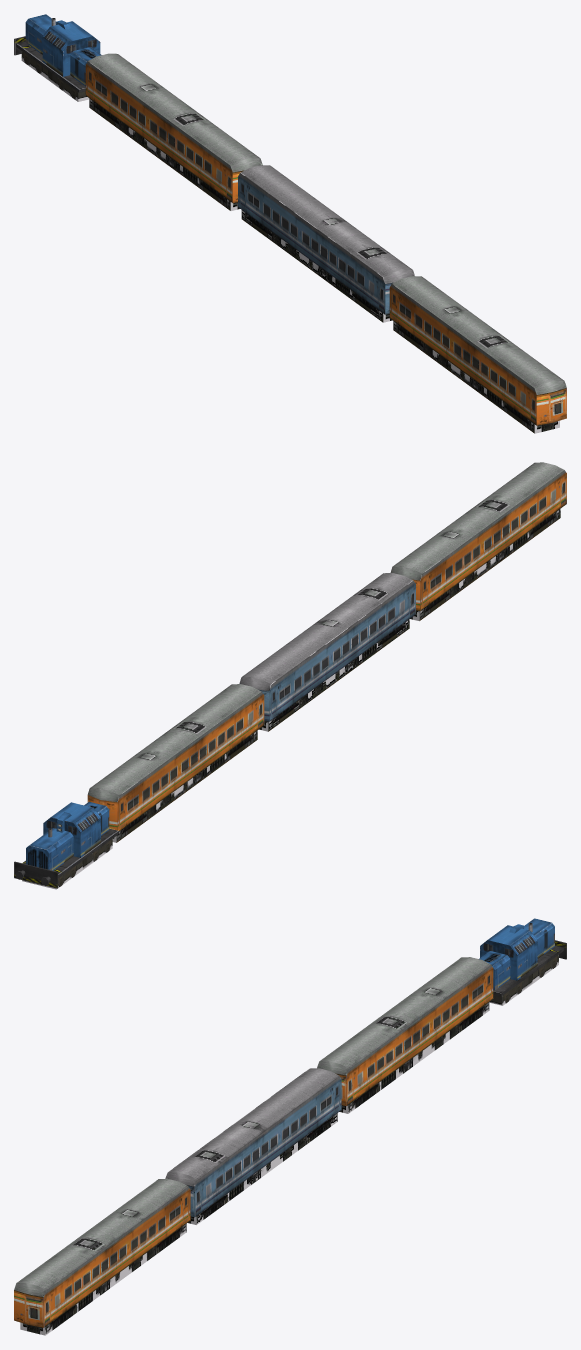
Rendered from Train.gltf.
The picture shows the model from 3 angles, top to bottom: view 1: azimuth 30°, elevation 25°; view 2: azimuth 150°, elevation 25°; view 3: azimuth 330°, elevation 25°; orthographic projection.
Parts seen in each view (by area): view 1: Box01; view 2: Box01; view 3: Box01.
Boxes of the visible parts, left/top/right/bottom form: Box01: left=14, top=14, right=566, bottom=433; Box01: left=14, top=462, right=566, bottom=889; Box01: left=14, top=918, right=566, bottom=1335.
Size of the model in its own units: 7.11 by 8.32 by 147.
1 material, 1 textured.
